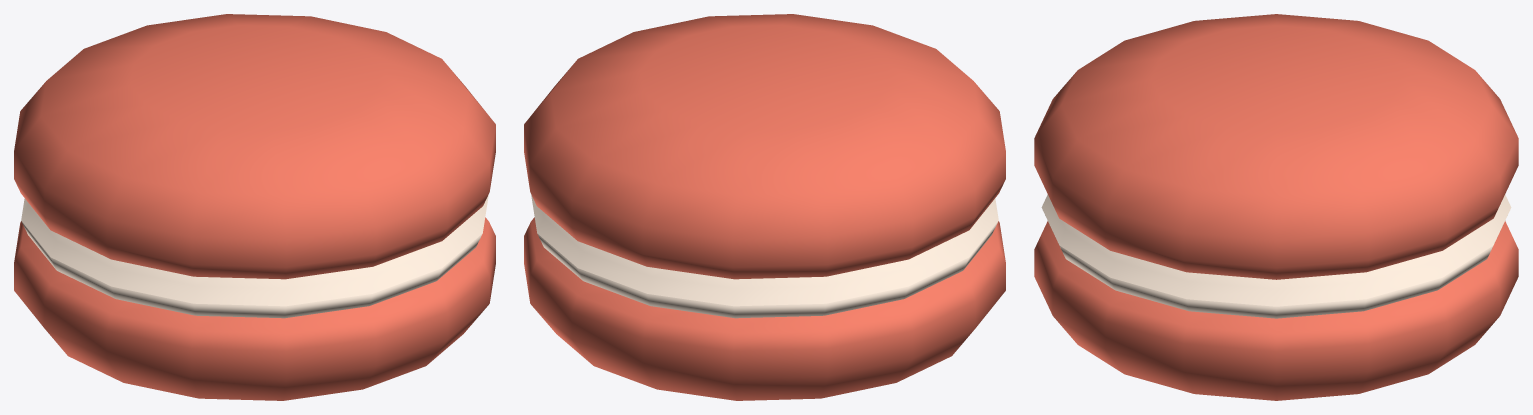
The model's file is SM_macaron_04.fbx.
3 views of the same model, side by side, from view 1: azimuth 30°, elevation 25°; view 2: azimuth 150°, elevation 25°; view 3: azimuth 270°, elevation 25° (orthographic).
Parts seen in each view (by area): view 1: SM_macaron_04; view 2: SM_macaron_04; view 3: SM_macaron_04.
Boxes of the visible parts, x1,y1,x2,y2 form: SM_macaron_04: (14, 14, 495, 400); SM_macaron_04: (524, 14, 1005, 400); SM_macaron_04: (1034, 14, 1518, 400).
Bounding box in the file's own units: 9.06 × 5.33 × 9.06.
Materials: 1 (1 with a texture image).
